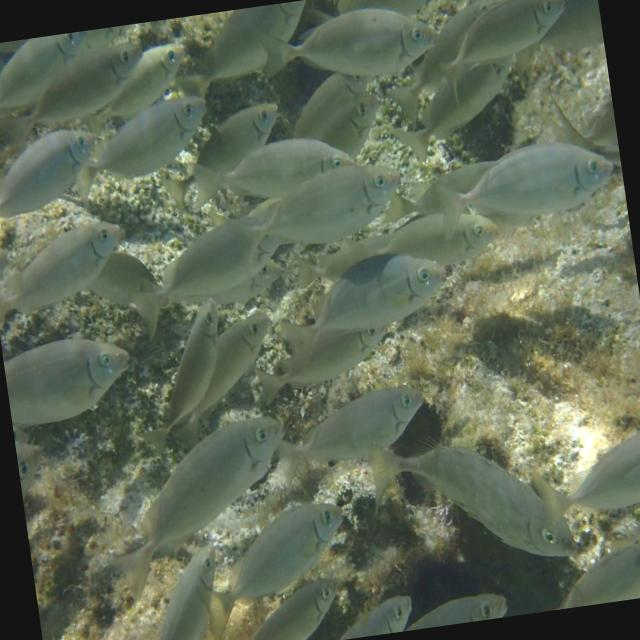Sokar Baligi: (265, 240, 457, 378), (422, 126, 628, 245), (256, 374, 438, 502), (240, 0, 447, 104), (428, 0, 585, 105)
